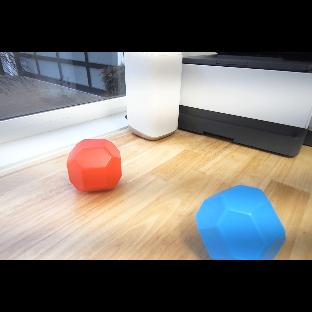V5_BLUE: (195, 185, 286, 260)
V5_RED: (66, 138, 122, 193)
